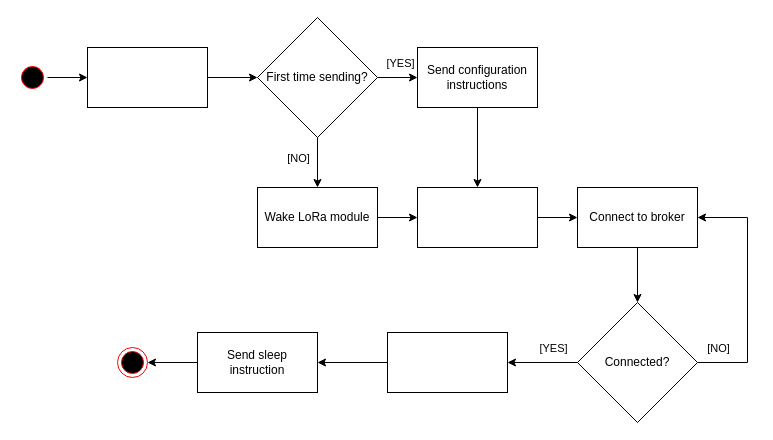
This 773x440 diagram has some shape labels left out. The shapes that lost their labels are listed below. From the top down, each one's centre as x and y in pixels, then its label:
At [147,77]: "Convert sensordata into bytes".
At [477,217]: "Send sensordata to LoRa module".
At [447,362]: "Transmit data".
